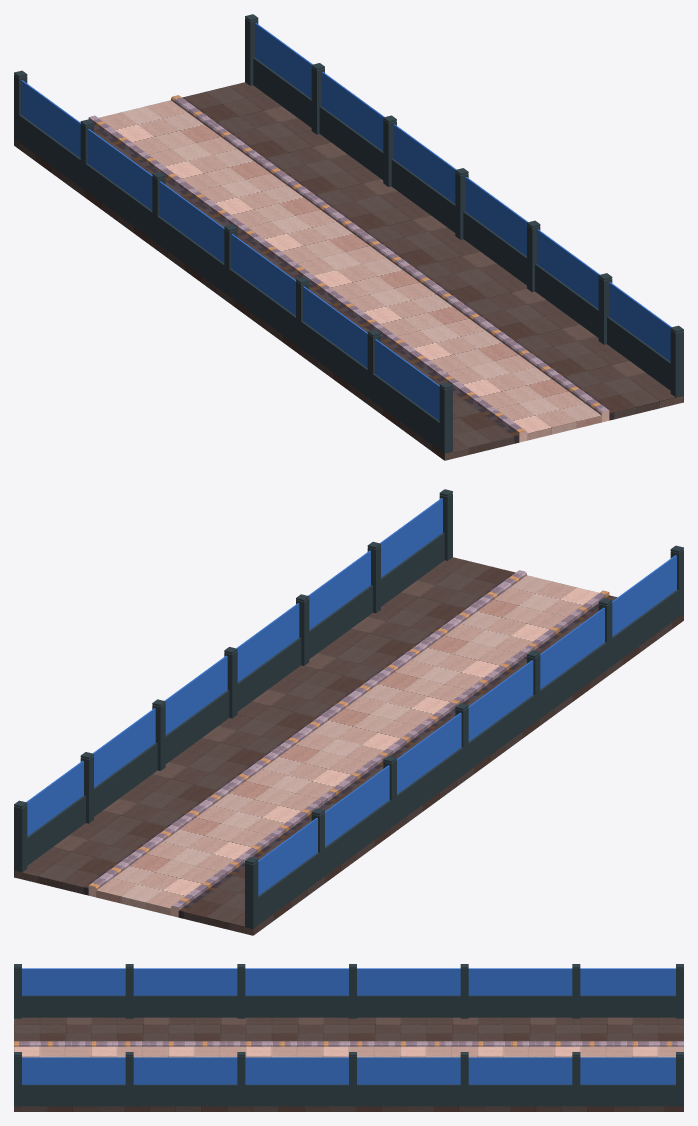
File: Corwd_Chunk01_2mLane.fbx
The picture shows the model from 3 angles, top to bottom: view 1: azimuth 30°, elevation 25°; view 2: azimuth 150°, elevation 25°; view 3: azimuth 270°, elevation 25°; orthographic projection. The views are drawn at different scales.
Parts seen in each view (by area): view 1: Base1, SideWall_023, SideWall_024; view 2: Base1, SideWall_023, SideWall_024; view 3: SideWall_023, SideWall_024, Base1.
Boxes of the visible parts, x1,y1,x2,y2 form: Base1: (14, 82, 683, 460); SideWall_023: (14, 70, 452, 453); SideWall_024: (245, 14, 683, 397); Base1: (14, 557, 683, 935); SideWall_023: (245, 545, 683, 928); SideWall_024: (14, 489, 452, 872); SideWall_023: (14, 964, 683, 1018); SideWall_024: (14, 1052, 683, 1106); Base1: (14, 1017, 683, 1111).
Size of the model in its own units: 1925 by 562 by 6000.
